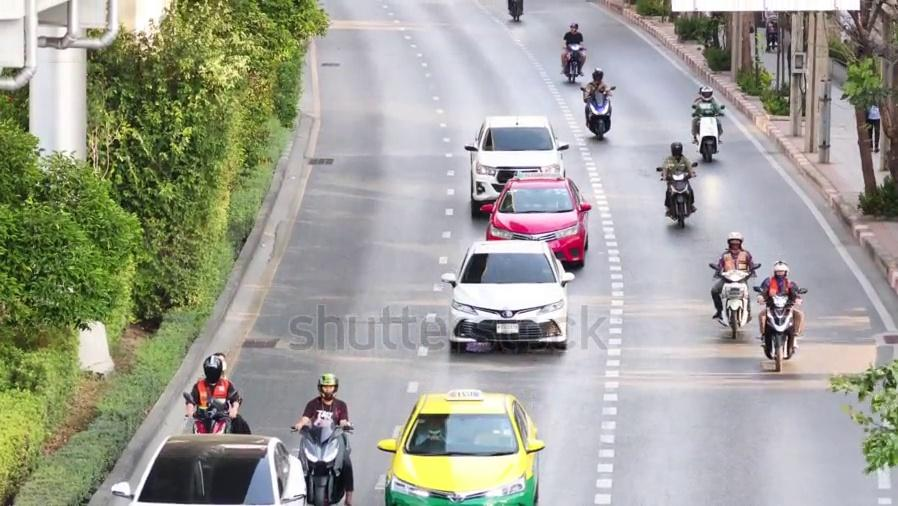person: (865, 100, 881, 152)
rider: (292, 372, 354, 505), (183, 352, 242, 433), (755, 260, 805, 350), (709, 231, 756, 322), (660, 141, 697, 215), (691, 85, 724, 144), (581, 67, 611, 125), (561, 22, 586, 76)
with_helmate: (314, 376, 340, 398), (722, 231, 747, 253), (201, 354, 222, 380), (769, 259, 793, 280), (666, 139, 684, 158), (698, 86, 716, 101), (591, 68, 606, 82)
